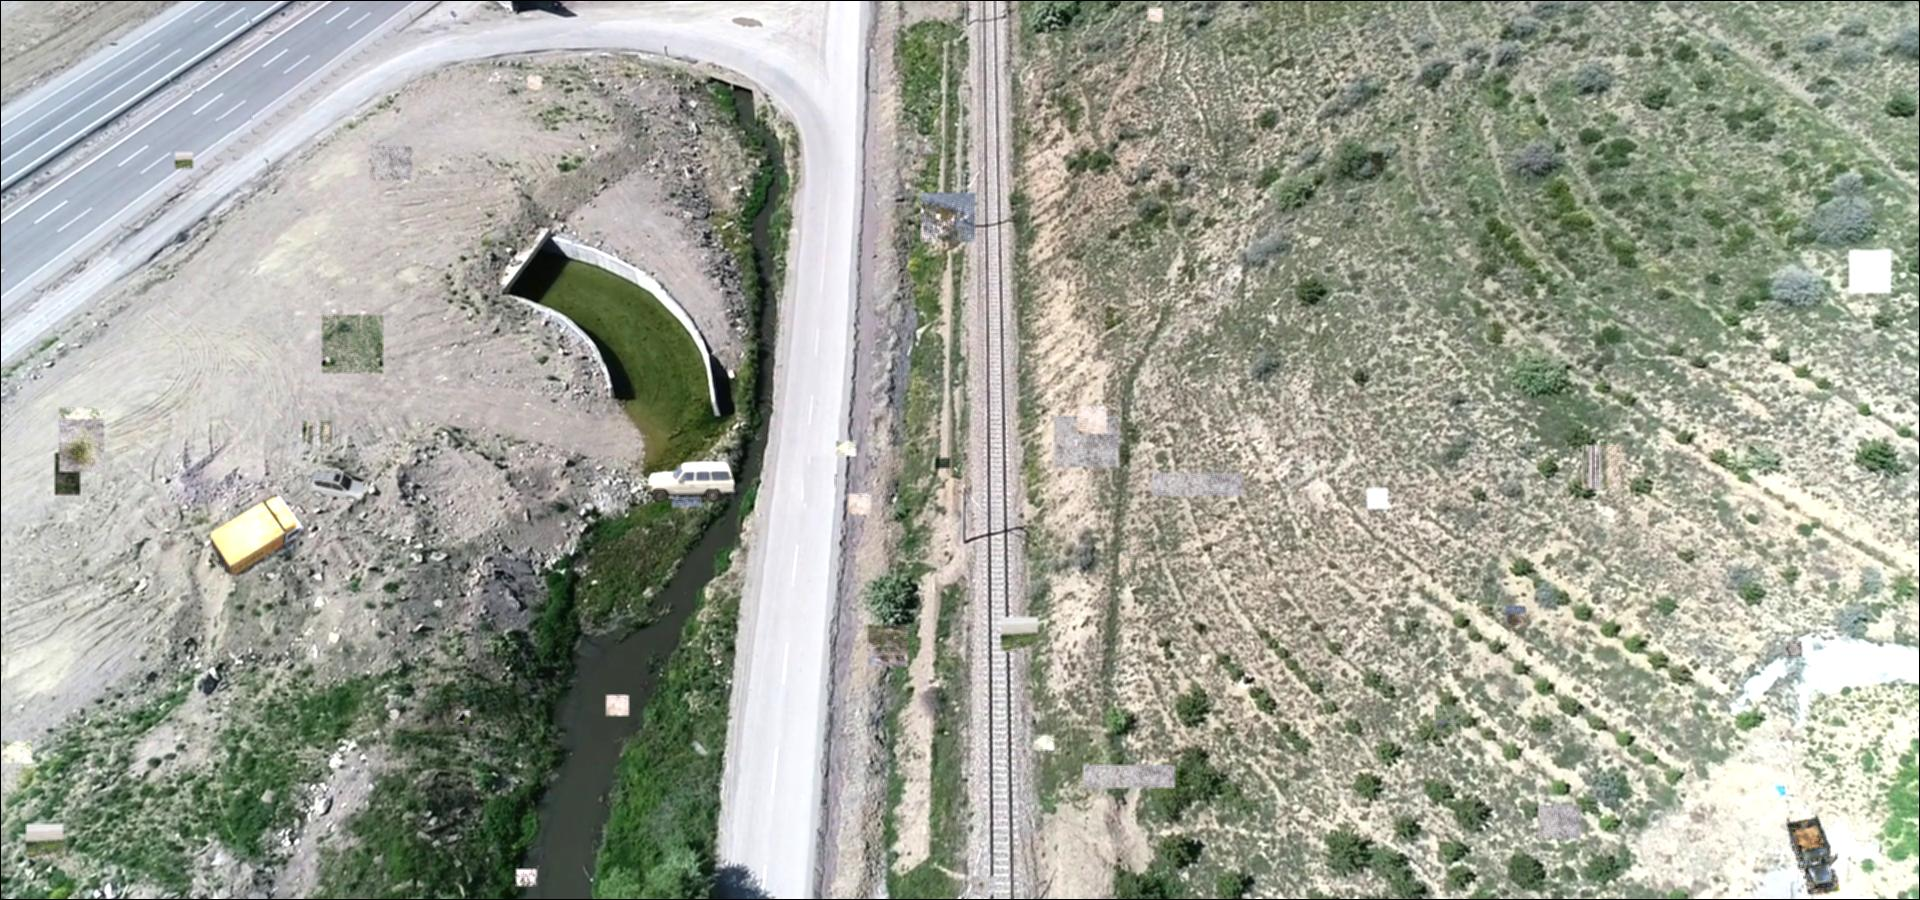arac: (211, 489, 306, 576), (1787, 813, 1840, 895), (645, 460, 735, 502), (305, 470, 366, 504)
